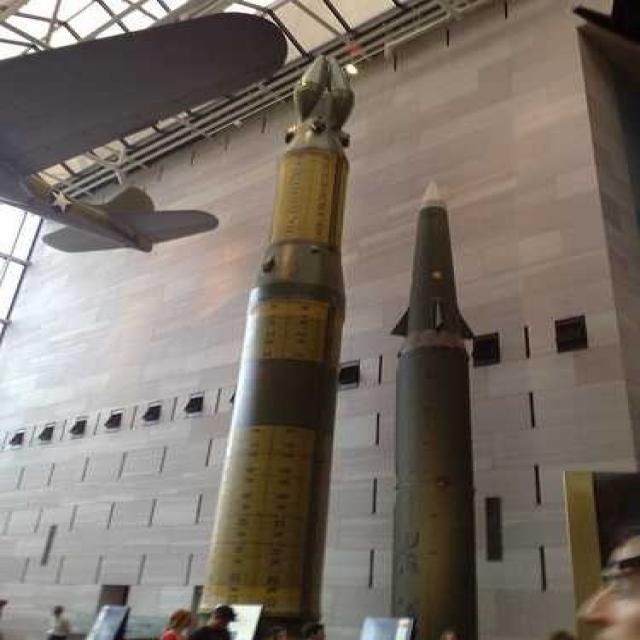missile: (203, 46, 352, 622), (396, 180, 491, 634)
